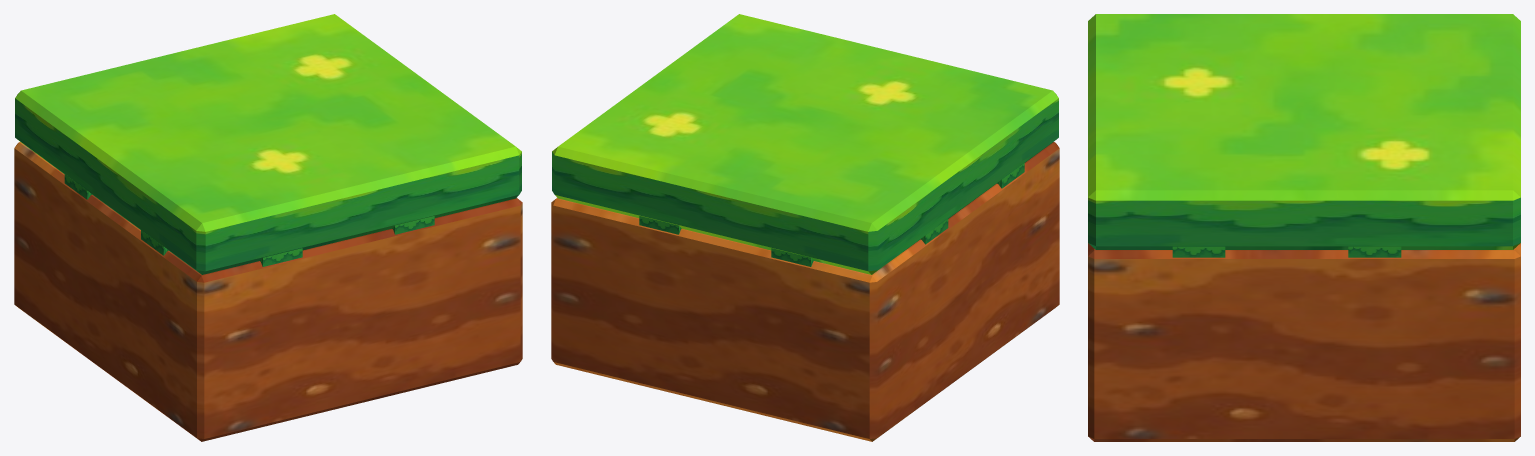
The model's file is grass_clover.glb.
The picture shows the model from 3 angles, left to right: view 1: azimuth 30°, elevation 25°; view 2: azimuth 150°, elevation 25°; view 3: azimuth 270°, elevation 25°; orthographic projection. The views are drawn at different scales.
Parts seen in each view (by area): view 1: grass_clover; view 2: grass_clover; view 3: grass_clover.
Boxes of the visible parts, bbox=[...] form: grass_clover: bbox=[14, 14, 522, 441]; grass_clover: bbox=[551, 14, 1059, 441]; grass_clover: bbox=[1088, 14, 1520, 441].
Size of the model in its own units: 0.985 by 0.63 by 0.985.
1 material, 1 textured.
